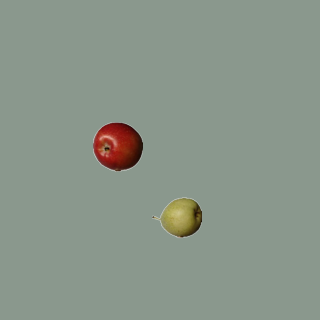Apple Braeburn: (92, 121, 142, 171)
Pear: (151, 192, 201, 242)
